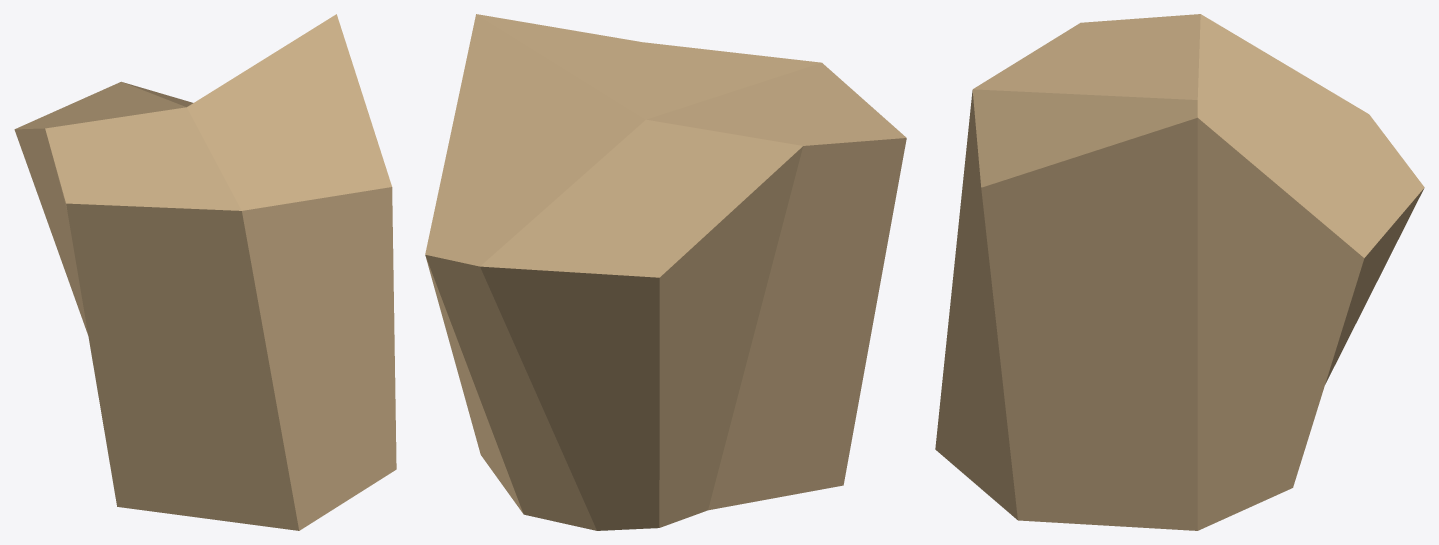
The model's file is Rock_3.fbx.
3 renders of one model, left to right at view 1: azimuth 30°, elevation 25°; view 2: azimuth 150°, elevation 25°; view 3: azimuth 270°, elevation 25°, orthographic. The views are drawn at different scales.
Parts seen in each view (by area): view 1: pasted__pPlatonic3; view 2: pasted__pPlatonic3; view 3: pasted__pPlatonic3.
Part boxes in pixels (x1,y1,x2,y2): pasted__pPlatonic3: (14, 14, 396, 530); pasted__pPlatonic3: (425, 14, 906, 530); pasted__pPlatonic3: (935, 14, 1424, 530).
Size of the model in its own units: 872 by 994 by 1061.
